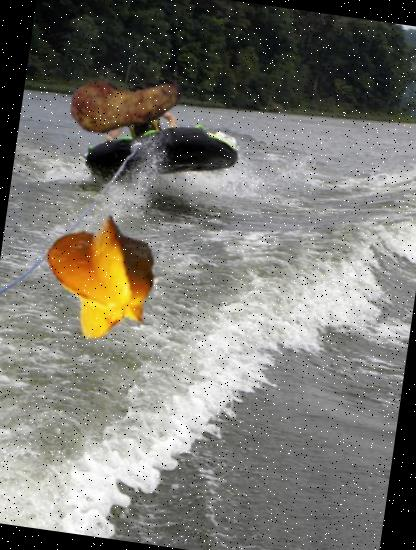Carambula: (34, 204, 180, 348)
Pear: (63, 37, 188, 162)
